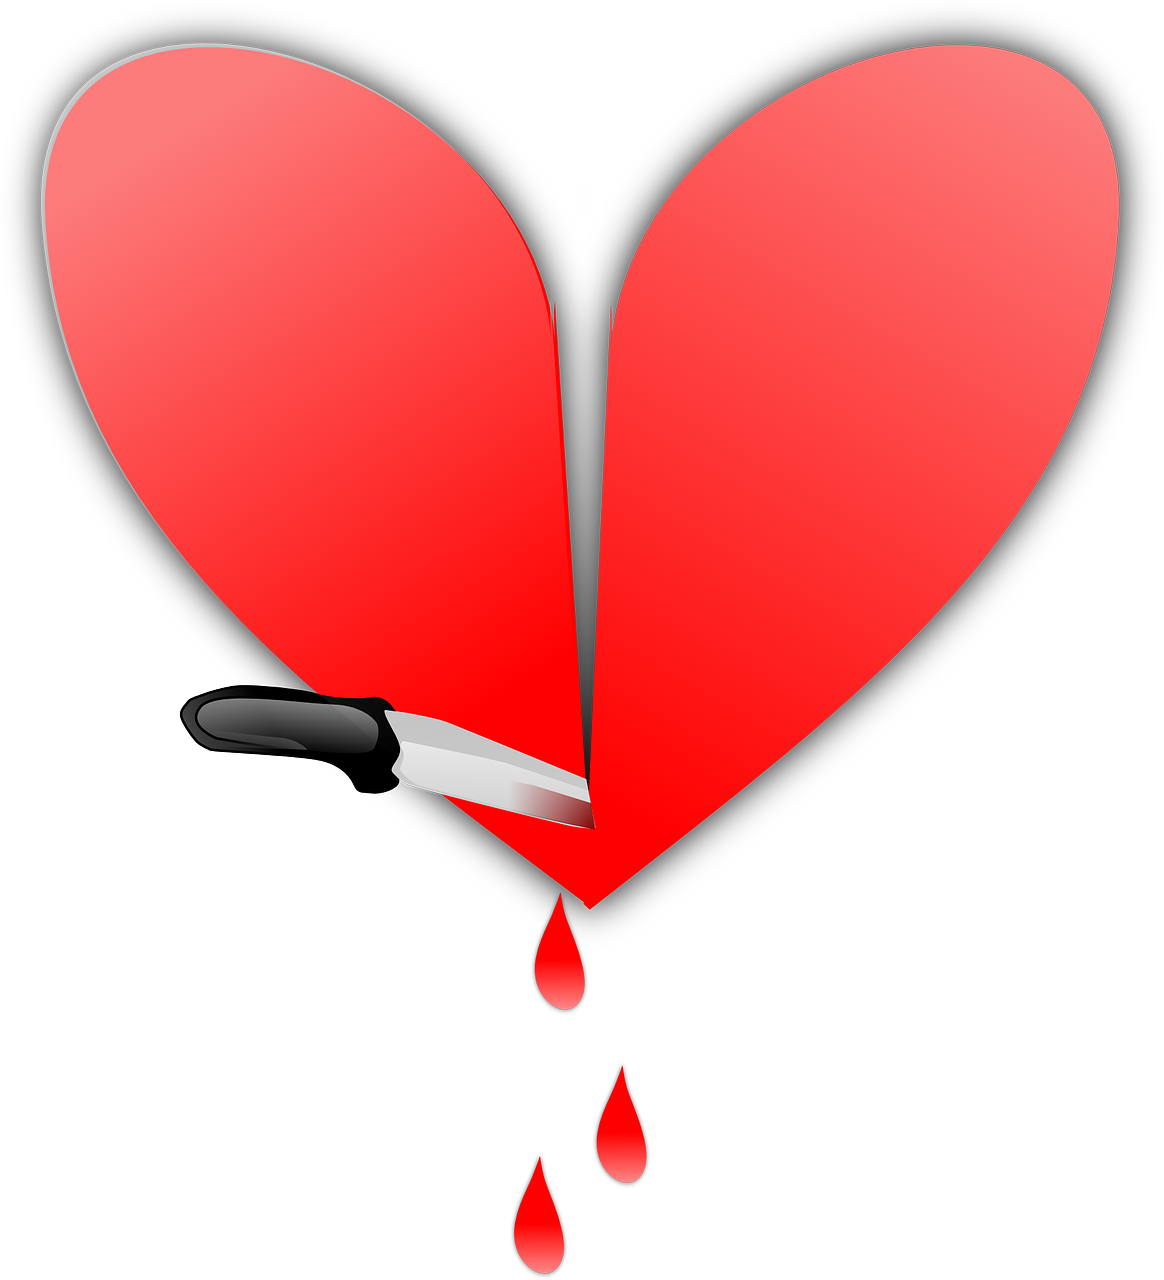knife: (180, 669, 607, 899)
